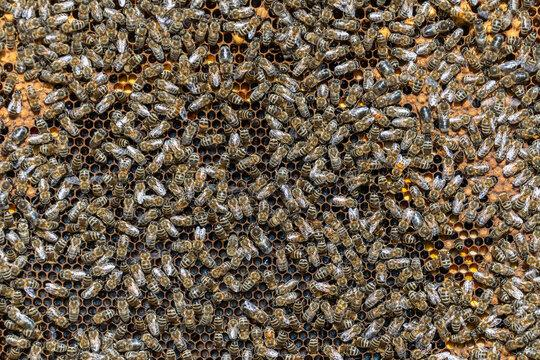worker-bee: (7, 305, 35, 329), (2, 126, 28, 151), (362, 79, 388, 104), (16, 199, 39, 227), (235, 15, 261, 39), (165, 139, 192, 161), (250, 225, 271, 253), (241, 301, 267, 323), (487, 60, 518, 78), (422, 20, 453, 37), (512, 187, 533, 212), (303, 69, 330, 88), (218, 45, 233, 78), (11, 278, 38, 296), (46, 305, 68, 327), (187, 93, 213, 111), (339, 106, 368, 122), (375, 90, 402, 107), (391, 155, 410, 179), (281, 184, 297, 212), (86, 73, 107, 94), (476, 204, 497, 225), (241, 270, 261, 292), (293, 216, 313, 238), (475, 80, 497, 100), (239, 236, 258, 259), (44, 88, 69, 105), (122, 6, 139, 31), (292, 56, 312, 77), (309, 281, 337, 296), (68, 199, 87, 221), (86, 196, 108, 215), (269, 145, 288, 167), (221, 104, 239, 127), (477, 135, 495, 158), (250, 81, 270, 101), (459, 134, 475, 159), (141, 333, 162, 352), (266, 104, 287, 123), (256, 56, 277, 75), (248, 175, 267, 196), (81, 281, 103, 299), (462, 48, 480, 70), (428, 46, 445, 69), (320, 120, 337, 143), (69, 103, 93, 119), (285, 24, 301, 48), (352, 234, 368, 258), (146, 176, 166, 195), (409, 170, 428, 190), (365, 289, 385, 308), (515, 314, 535, 333), (123, 276, 141, 297), (116, 235, 130, 262), (152, 267, 170, 288), (172, 288, 186, 315), (8, 255, 26, 276), (146, 152, 164, 173), (272, 83, 293, 101), (299, 135, 317, 156), (302, 301, 320, 322), (484, 327, 511, 341), (66, 235, 81, 260), (306, 243, 321, 268), (81, 246, 103, 263), (147, 39, 164, 61), (255, 182, 277, 199), (503, 160, 525, 177), (92, 308, 115, 324), (117, 297, 131, 323), (115, 338, 143, 351), (328, 145, 342, 171), (492, 89, 506, 115), (160, 218, 179, 237), (60, 116, 79, 135), (89, 129, 107, 149), (245, 37, 260, 61), (334, 60, 358, 75), (454, 84, 474, 102), (398, 208, 413, 232), (512, 168, 532, 186), (105, 269, 122, 290), (210, 262, 231, 279), (138, 208, 159, 225), (117, 220, 139, 236), (35, 44, 57, 60), (237, 154, 259, 170), (227, 197, 243, 219), (348, 142, 370, 158), (400, 128, 416, 150), (145, 222, 158, 249), (27, 85, 40, 112), (412, 67, 425, 94), (200, 134, 225, 148), (61, 19, 86, 33), (473, 19, 485, 48), (473, 271, 496, 286), (123, 125, 142, 143), (268, 208, 287, 226), (30, 165, 47, 185), (169, 35, 182, 61), (518, 8, 531, 34), (199, 301, 213, 325), (31, 238, 45, 262), (154, 79, 178, 93), (149, 121, 170, 137), (375, 30, 387, 58), (395, 267, 411, 288), (490, 261, 514, 275), (276, 279, 298, 294), (270, 129, 292, 144), (118, 157, 131, 182), (239, 192, 252, 217), (389, 22, 414, 35), (68, 295, 80, 322), (332, 19, 359, 31), (291, 117, 308, 136), (45, 283, 68, 297), (274, 292, 297, 306), (181, 31, 195, 54), (295, 94, 309, 117), (104, 7, 124, 23), (216, 79, 232, 99), (337, 227, 353, 247), (367, 304, 387, 320), (142, 63, 163, 78), (353, 116, 374, 131), (91, 263, 115, 276), (6, 335, 30, 348), (388, 33, 412, 46), (386, 257, 410, 270), (463, 164, 489, 176), (59, 269, 87, 280), (350, 35, 364, 57), (372, 109, 389, 127), (17, 219, 29, 244), (193, 227, 205, 252), (391, 48, 416, 60), (348, 208, 360, 233), (47, 14, 68, 28), (88, 327, 100, 351), (78, 169, 90, 193), (208, 63, 220, 87), (325, 28, 349, 40), (275, 249, 288, 271), (135, 23, 146, 49), (52, 0, 74, 13), (329, 79, 340, 105), (170, 215, 193, 227), (15, 173, 27, 196), (139, 139, 162, 151), (257, 200, 269, 223), (375, 262, 387, 285), (38, 178, 49, 203), (208, 20, 219, 45), (462, 280, 473, 305), (194, 21, 207, 42), (205, 166, 226, 179), (5, 22, 15, 49), (45, 340, 67, 352), (28, 133, 52, 144), (116, 28, 127, 52), (227, 133, 239, 155), (149, 21, 161, 43), (380, 129, 404, 140), (321, 301, 333, 323), (174, 164, 187, 184), (92, 84, 108, 100), (88, 216, 105, 231), (123, 197, 134, 220), (130, 92, 153, 103), (216, 181, 227, 204), (491, 9, 502, 32), (263, 270, 276, 289), (140, 251, 151, 273), (363, 68, 374, 90), (392, 117, 416, 127), (410, 157, 430, 169), (314, 266, 331, 280), (70, 56, 81, 77), (134, 181, 144, 204), (167, 182, 183, 196), (80, 55, 92, 73), (37, 219, 57, 229), (113, 284, 113, 284), (282, 214, 283, 214)
